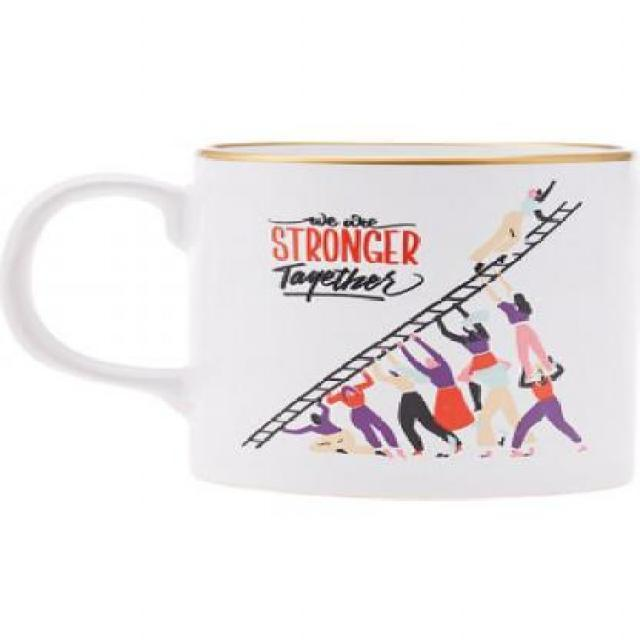taza: (0, 142, 640, 504)
